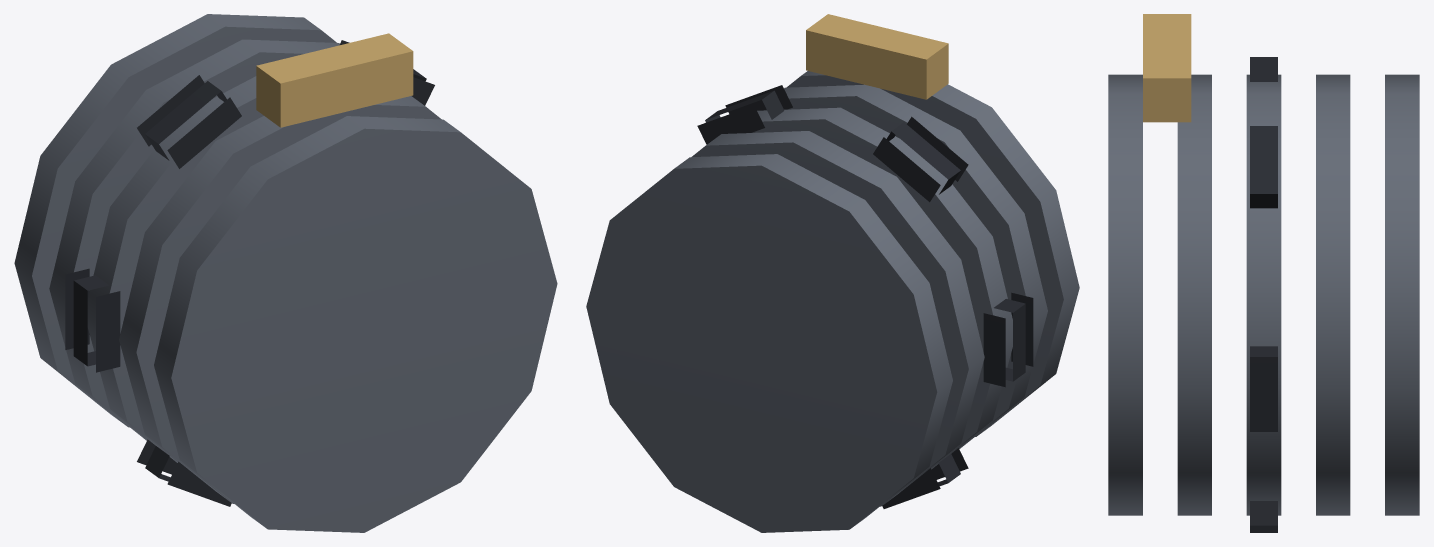
The model's file is item_wire.glb.
The picture shows the model from 3 angles, left to right: view 1: azimuth 30°, elevation 25°; view 2: azimuth 150°, elevation 25°; view 3: azimuth 270°, elevation 25°; orthographic projection. The views are drawn at different scales.
Parts seen in each view (by area): view 1: item_wire, item_wire_detail; view 2: item_wire, item_wire_detail; view 3: item_wire, item_wire_detail.
Boxes of the visible parts, box(x1,y1,x2,y2) form: item_wire: box(14, 14, 557, 532); item_wire_detail: box(256, 33, 413, 127); item_wire: box(586, 71, 1079, 532); item_wire_detail: box(806, 14, 948, 99); item_wire: box(1108, 57, 1419, 532); item_wire_detail: box(1143, 14, 1191, 122).
Size of the model in its own units: 0.34 by 0.3607 by 0.225.
